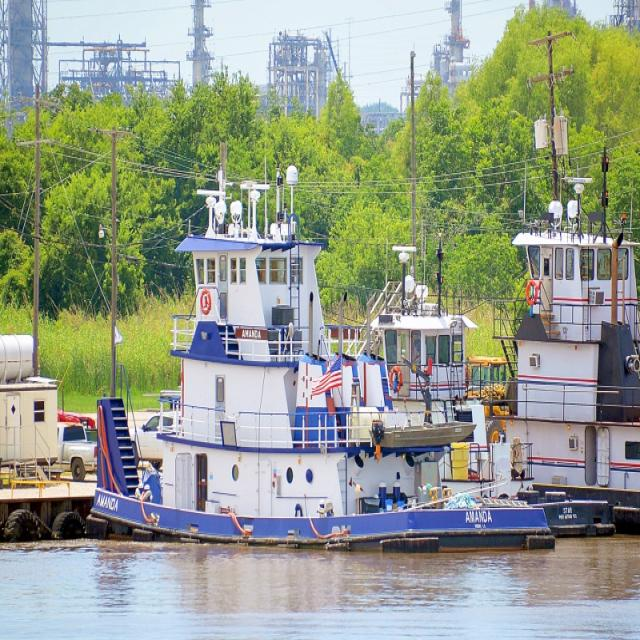tugboat: (87, 177, 556, 561)
